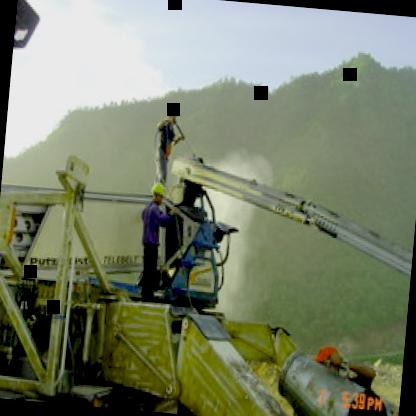head: (165, 101, 181, 123)
helmet: (146, 180, 167, 208)
